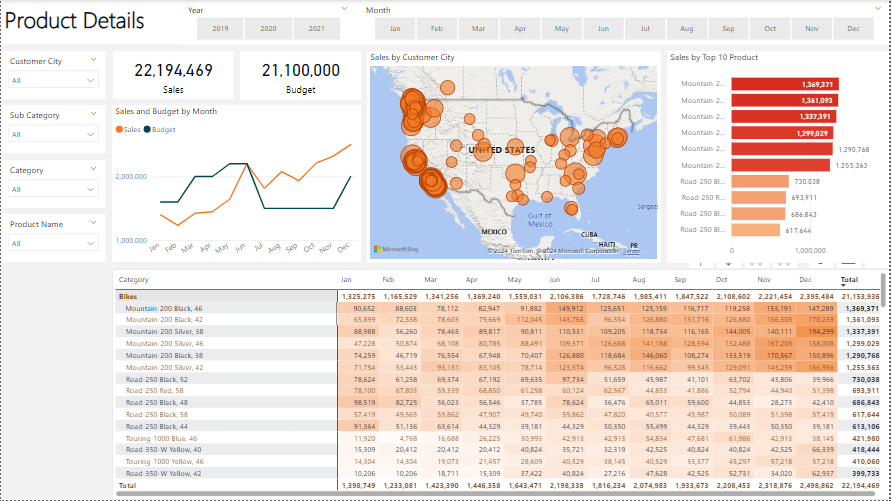

Layout of this report page (visuals, bound fields, positions):
{"tool":"powerbi","page":{"name":"Product Details","canvas":[1280,720],"ordinal":2},"visuals":[{"type":"textbox","box":[0,0,1280,64],"z":0},{"type":"slicer","fields":{"Values":["DIM_Calendar.Year"]},"box":[256,0,256,64],"z":1000},{"type":"slicer","fields":{"Values":["DIM_Calendar.MonthShort"]},"box":[512,0,768,64],"z":2000},{"type":"slicer","fields":{"Values":["DIM_Customers.Customer City"]},"box":[0,73,150.5,69.3],"z":3000},{"type":"slicer","fields":{"Values":["DIM_Products.Product Category"]},"box":[0,229.9,150.5,69.3],"z":4000},{"type":"slicer","fields":{"Values":["DIM_Products.Product Name"]},"box":[0,308.4,150.5,69.3],"z":5000},{"type":"slicer","fields":{"Values":["DIM_Products.Sub Category"]},"box":[0,151.4,150.5,69.3],"z":6000},{"type":"lineChart","fields":{"Category":["DIM_Calendar.MonthShort"],"Y":["Analysis Metrics.Sales","Analysis Metrics.Budget"]},"box":[159.8,151.8,358.7,226.4],"z":7000},{"type":"card","fields":{"Values":["Analysis Metrics.Sales"]},"box":[160.7,72.8,174,69.2],"z":8000},{"type":"map","fields":{"Category":["DIM_Customers.Customer City"],"Size":["Analysis Metrics.Sales"]},"box":[527.3,72.8,423.5,304.5],"z":9000},{"type":"card","fields":{"Values":["Analysis Metrics.Budget"]},"box":[343.6,72.8,174.9,70.1],"z":10000},{"type":"pivotTable","fields":{"Rows":["DIM_Products.Product Category","DIM_Products.Product Name"],"Columns":["DIM_Calendar.MonthShort"],"Values":["Analysis Metrics.Sales"]},"box":[159.8,387.1,1120.4,332.9],"z":11000},{"type":"clusteredBarChart","title":"Sales by Top 10 Product","fields":{"Category":["DIM_Products.Product Name"],"Y":["Analysis Metrics.Sales"]},"box":[959.7,72.8,320.5,304.5],"z":12000}]}

Visuals, with their boxes in screenshot pixels (x1, y1, x2, y2), scaled from the page's 1280x720 canvas onto the 892x501 screenshot:
textbox: box=[0, 0, 891, 45]
slicer - DIM_Calendar.Year: box=[178, 0, 357, 45]
slicer - DIM_Calendar.MonthShort: box=[357, 0, 891, 45]
slicer - DIM_Customers.Customer City: box=[0, 51, 105, 99]
slicer - DIM_Products.Product Category: box=[0, 160, 105, 208]
slicer - DIM_Products.Product Name: box=[0, 215, 105, 263]
slicer - DIM_Products.Sub Category: box=[0, 105, 105, 154]
lineChart - DIM_Calendar.MonthShort x Analysis Metrics.Sales: box=[111, 106, 361, 263]
card - Analysis Metrics.Sales: box=[112, 51, 233, 99]
map - DIM_Customers.Customer City x Analysis Metrics.Sales: box=[367, 51, 663, 263]
card - Analysis Metrics.Budget: box=[239, 51, 361, 99]
pivotTable - DIM_Products.Product Category x DIM_Products.Product Name: box=[111, 269, 891, 500]
"Sales by Top 10 Product" clusteredBarChart: box=[669, 51, 891, 263]
